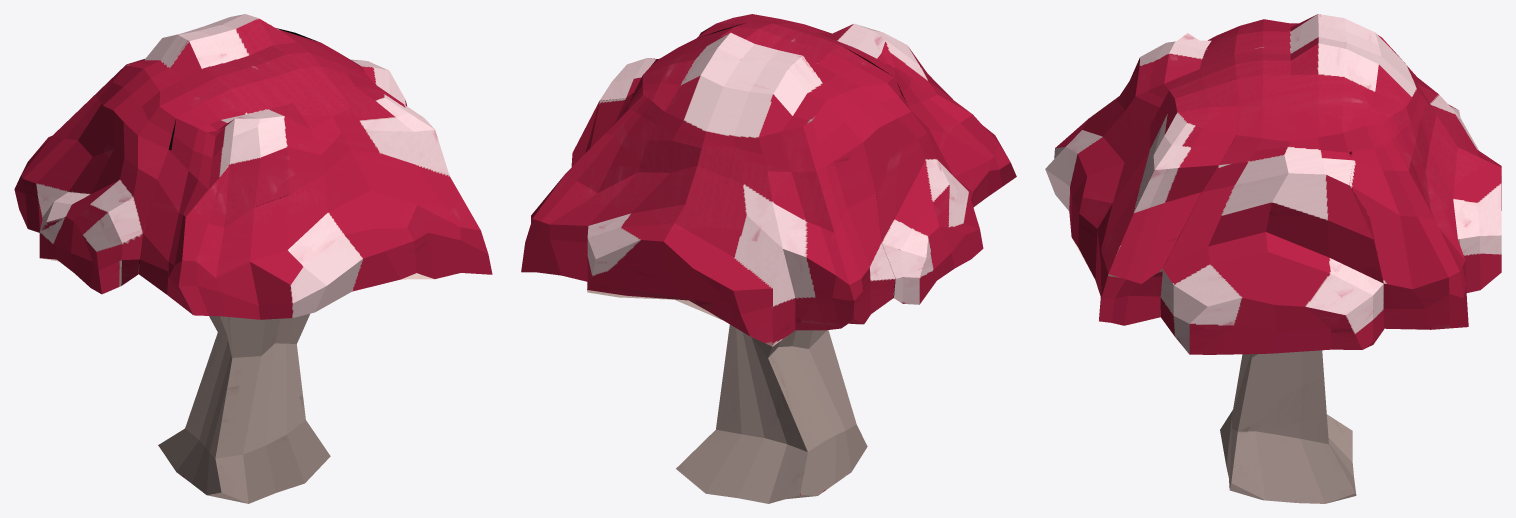
The model's file is mushroom.fbx.
3 renders of one model, left to right at view 1: azimuth 30°, elevation 25°; view 2: azimuth 150°, elevation 25°; view 3: azimuth 270°, elevation 25°, orthographic. The views are drawn at different scales.
Parts seen in each view (by area): view 1: shroom; view 2: shroom; view 3: shroom.
Boxes of the visible parts, <box> form: shroom: <box>14,14,492,503</box>; shroom: <box>521,14,1016,503</box>; shroom: <box>1045,14,1501,503</box>.
Bounding box in the file's own units: 6288 × 7432 × 6771.
